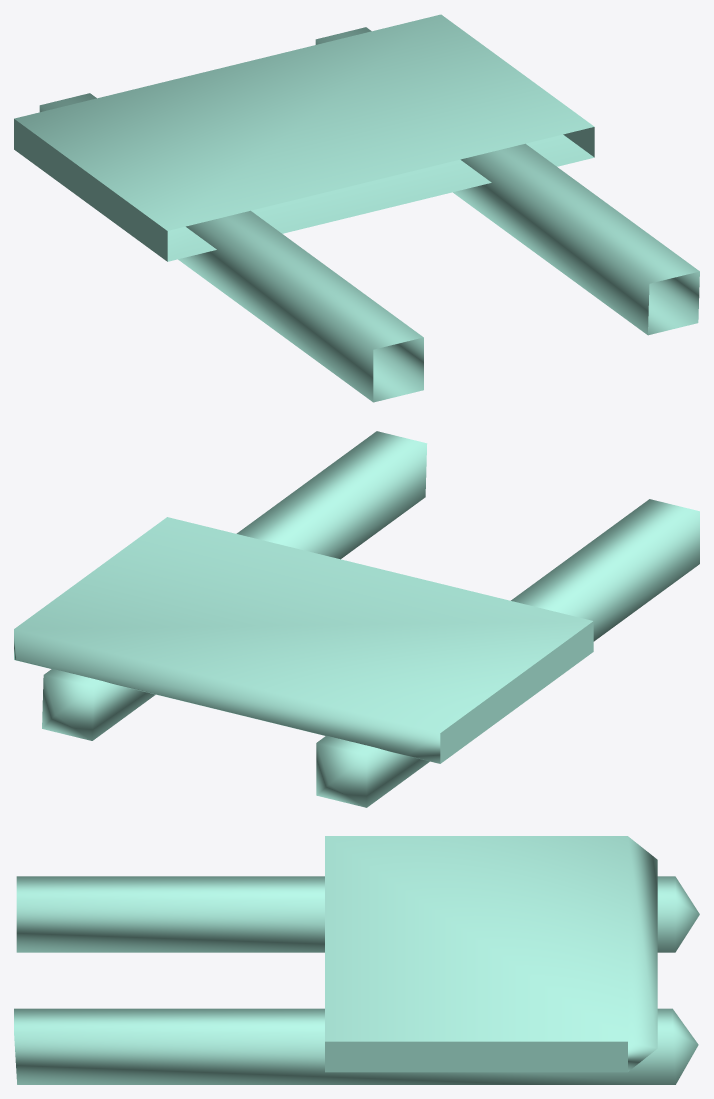
3 renders of one model, top to bottom at view 1: azimuth 30°, elevation 25°; view 2: azimuth 150°, elevation 25°; view 3: azimuth 270°, elevation 25°, orthographic.
Visible parts, largest first — view 1: Object28; view 2: Object28; view 3: Object28.
Part boxes in pixels (<box>): Object28: <box>14,14,699,402</box>; Object28: <box>14,431,699,807</box>; Object28: <box>14,836,699,1084</box>.
Bounding box in the file's own units: 9935 × 1541 × 14006.
